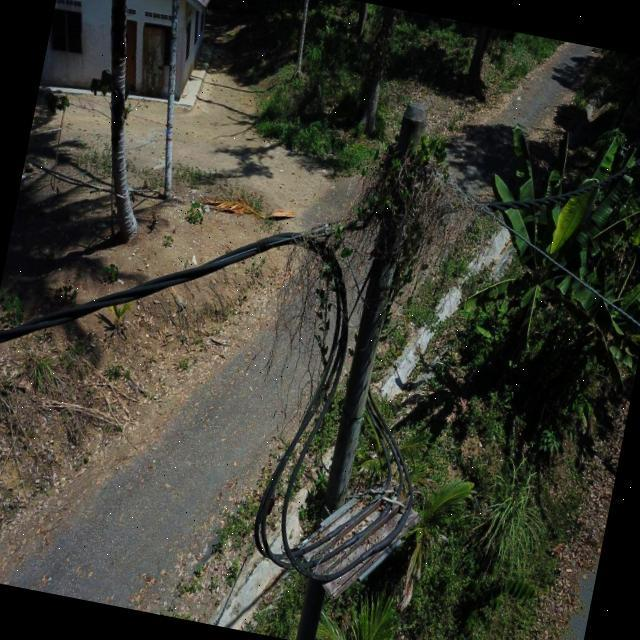critical vegetation: (239, 101, 512, 508)
